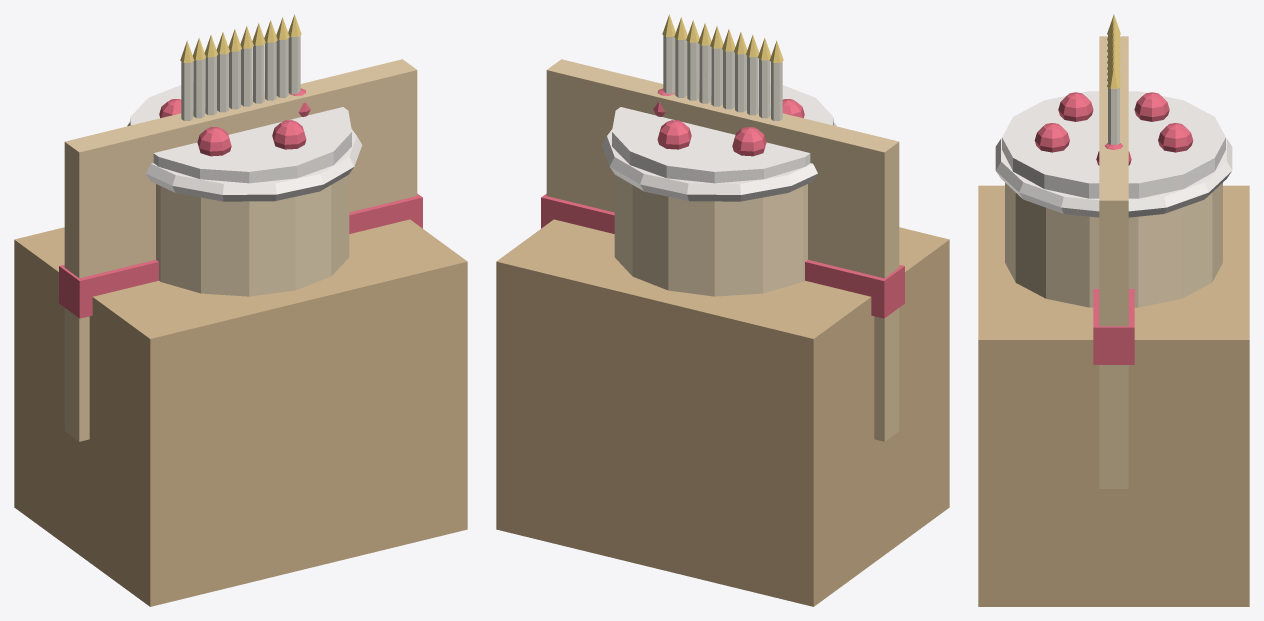
The model's file is cake_box.glb.
3 views of the same model, side by side, from view 1: azimuth 30°, elevation 25°; view 2: azimuth 150°, elevation 25°; view 3: azimuth 270°, elevation 25° (orthographic).
Visible parts, largest first — view 1: BoxBody, BoxLid, Cake, CreamTop, BoxBand, CreamWave, Berry4, Berry3, Candle8, Candle9, Candle7, Candle6 (+6 smaller); view 2: BoxBody, BoxLid, Cake, CreamTop, BoxBand, CreamWave, Berry1, Berry2, Candle8, Candle9, Candle7, Candle6 (+6 smaller); view 3: BoxBody, Cake, CreamTop, BoxLid, CreamWave, BoxBand, Berry2, Berry3, Berry1, Berry4, Candle9.
Part boxes in pixels (x1=…): BoxBody: x1=14, y1=219, x2=467, y2=606; BoxLid: x1=64, y1=59, x2=417, y2=441; Cake: x1=156, y1=174, x2=349, y2=296; CreamTop: x1=130, y1=79, x2=351, y2=183; BoxBand: x1=59, y1=193, x2=422, y2=318; CreamWave: x1=127, y1=122, x2=362, y2=201; Berry4: x1=272, y1=120, x2=306, y2=149; Berry3: x1=197, y1=127, x2=231, y2=156; Candle8: x1=276, y1=38, x2=288, y2=97; Candle9: x1=288, y1=35, x2=300, y2=94; Candle7: x1=265, y1=41, x2=276, y2=100; Candle6: x1=253, y1=44, x2=264, y2=103; BoxBody: x1=496, y1=219, x2=949, y2=606; BoxLid: x1=546, y1=59, x2=899, y2=441; Cake: x1=614, y1=174, x2=807, y2=296; CreamTop: x1=612, y1=79, x2=833, y2=183; BoxBand: x1=541, y1=193, x2=904, y2=318; CreamWave: x1=601, y1=122, x2=836, y2=201; Berry1: x1=657, y1=120, x2=691, y2=149; Berry2: x1=732, y1=127, x2=766, y2=156; Candle8: x1=675, y1=38, x2=687, y2=97; Candle9: x1=663, y1=35, x2=675, y2=94; Candle7: x1=687, y1=41, x2=698, y2=100; Candle6: x1=699, y1=44, x2=710, y2=103; BoxBody: x1=978, y1=185, x2=1249, y2=606; Cake: x1=1005, y1=183, x2=1222, y2=307; CreamTop: x1=1002, y1=91, x2=1225, y2=198; BoxLid: x1=1099, y1=36, x2=1128, y2=488; CreamWave: x1=995, y1=138, x2=1232, y2=217; BoxBand: x1=1093, y1=289, x2=1134, y2=364; Berry2: x1=1134, y1=92, x2=1169, y2=121; Berry3: x1=1058, y1=92, x2=1093, y2=121; Berry1: x1=1158, y1=123, x2=1193, y2=152; Berry4: x1=1034, y1=123, x2=1069, y2=152; Candle9: x1=1108, y1=87, x2=1119, y2=144.
Bounding box in the file's own units: 0.67 × 0.917 × 0.46.
